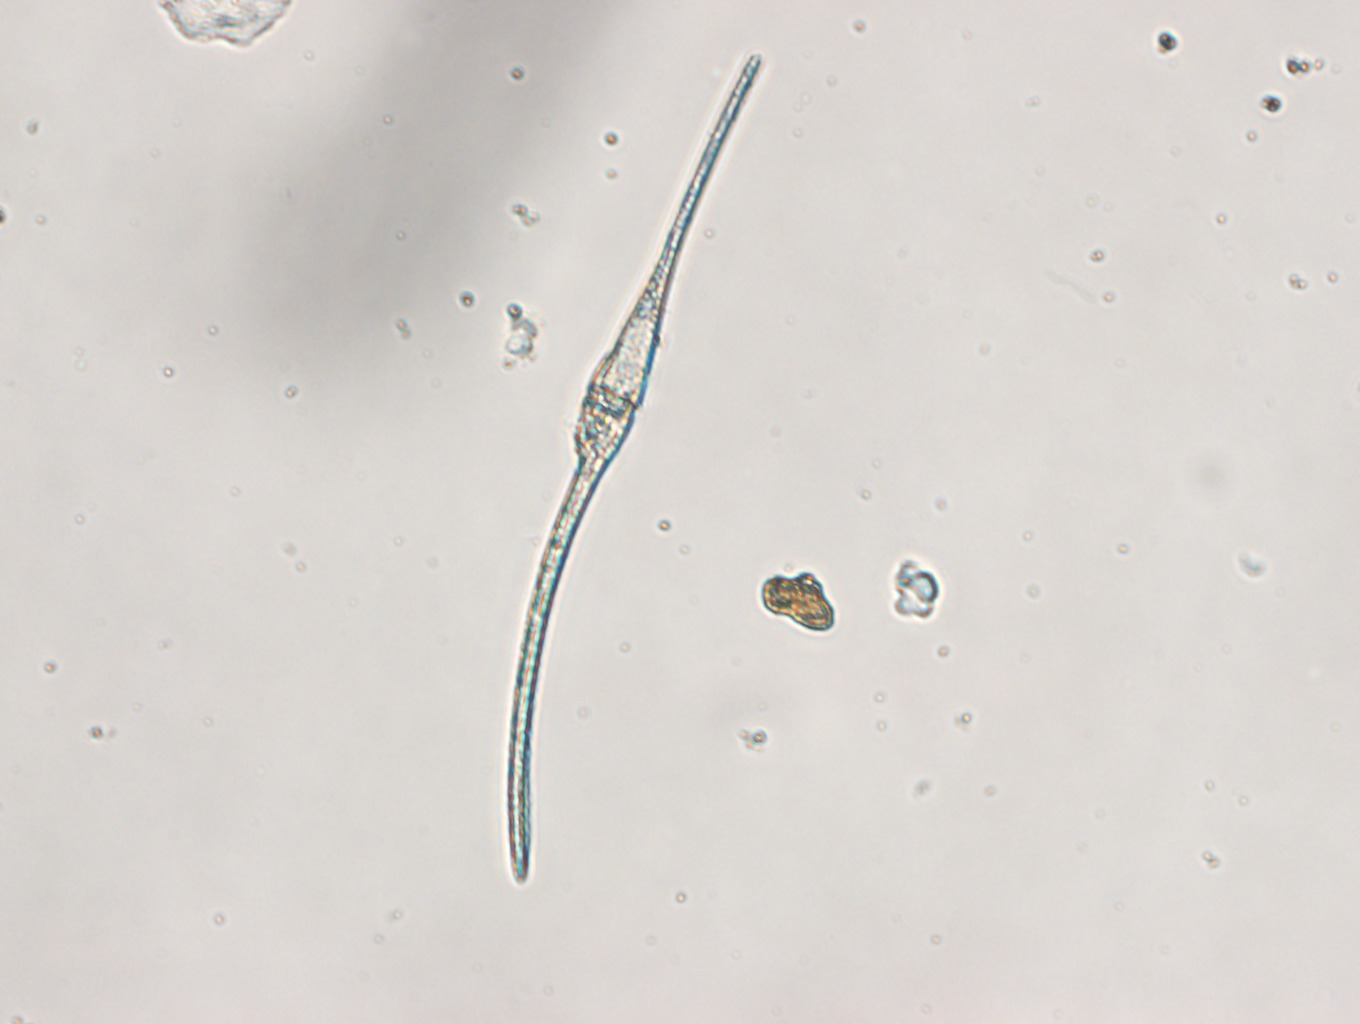ceratium fusus: (505, 48, 762, 885)
